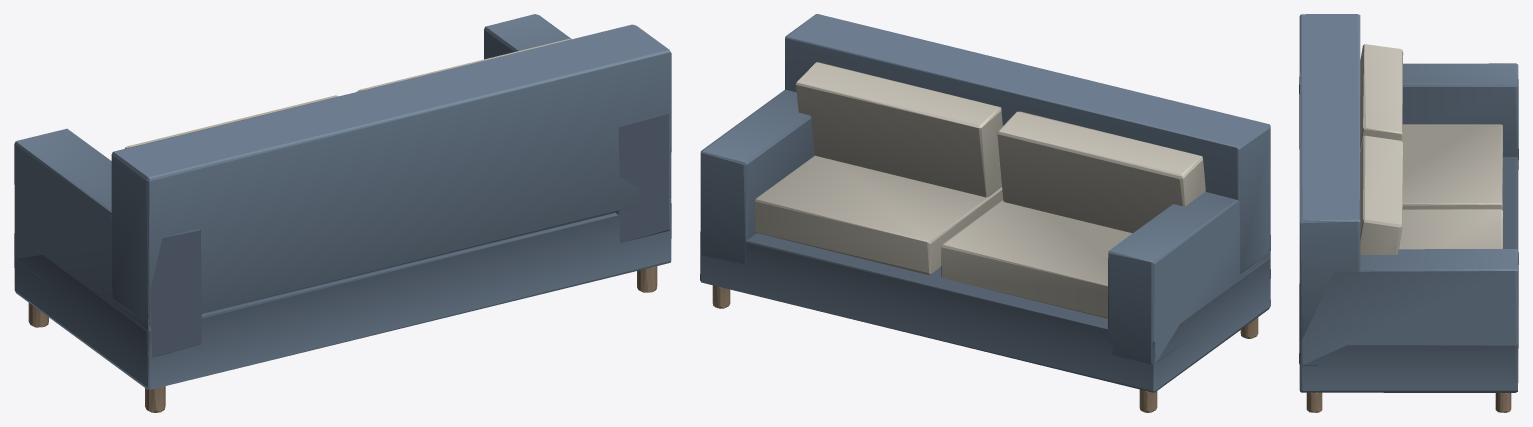
File: furn_sofa__navy_low.glb
The picture shows the model from 3 angles, left to right: view 1: azimuth 30°, elevation 25°; view 2: azimuth 150°, elevation 25°; view 3: azimuth 270°, elevation 25°; orthographic projection. The views are drawn at different scales.
Size of the model in its own units: 1.9 by 0.8385 by 0.85.
